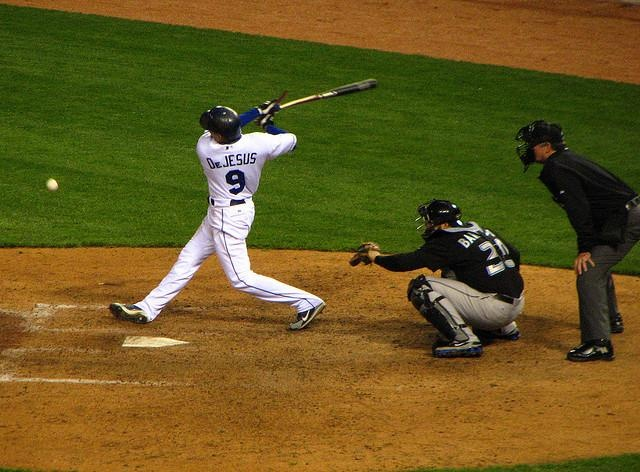person: (113, 94, 326, 333), (518, 118, 640, 365), (358, 193, 528, 365)
